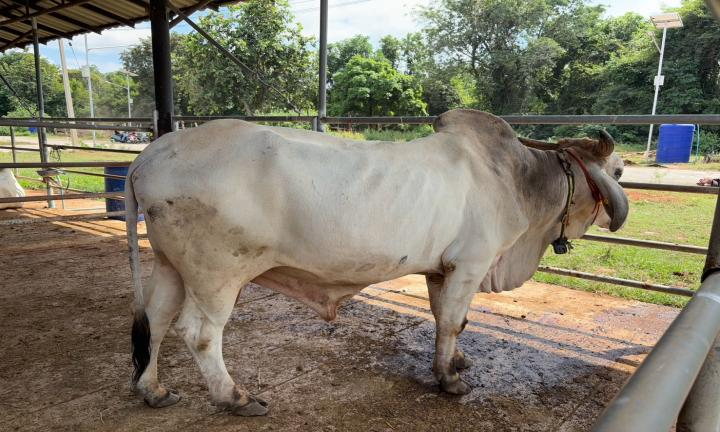Brahman: (126, 110, 628, 414)
